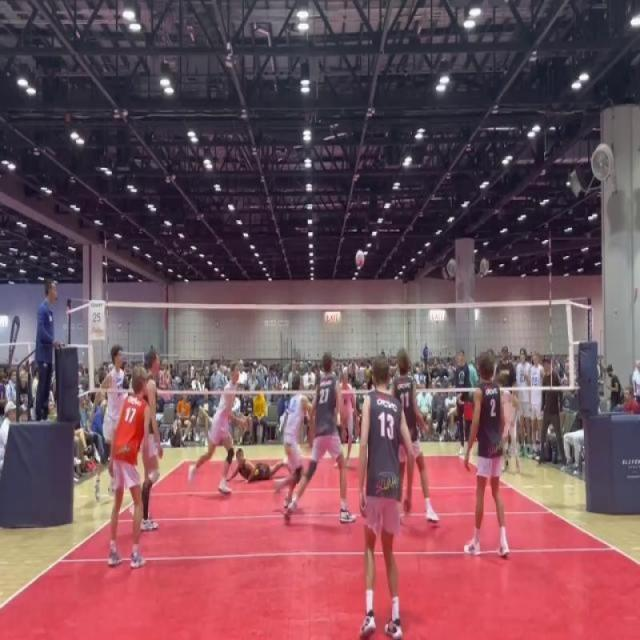volleyball: (354, 248, 366, 268)
